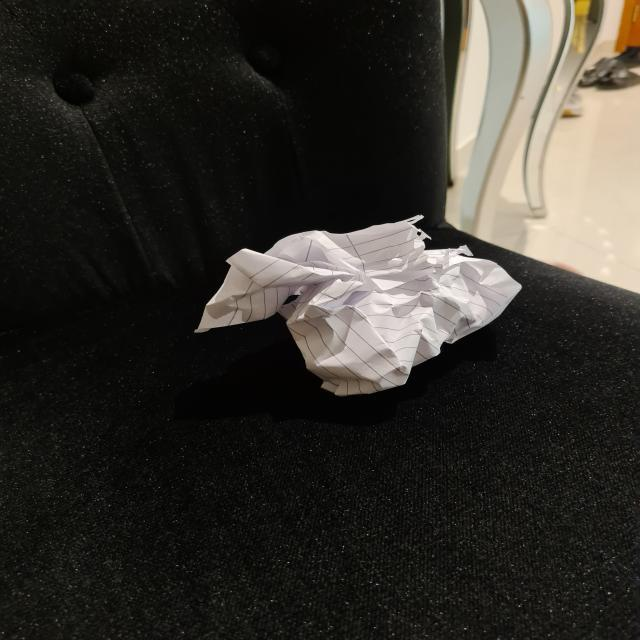Paper: (197, 214, 529, 393)
